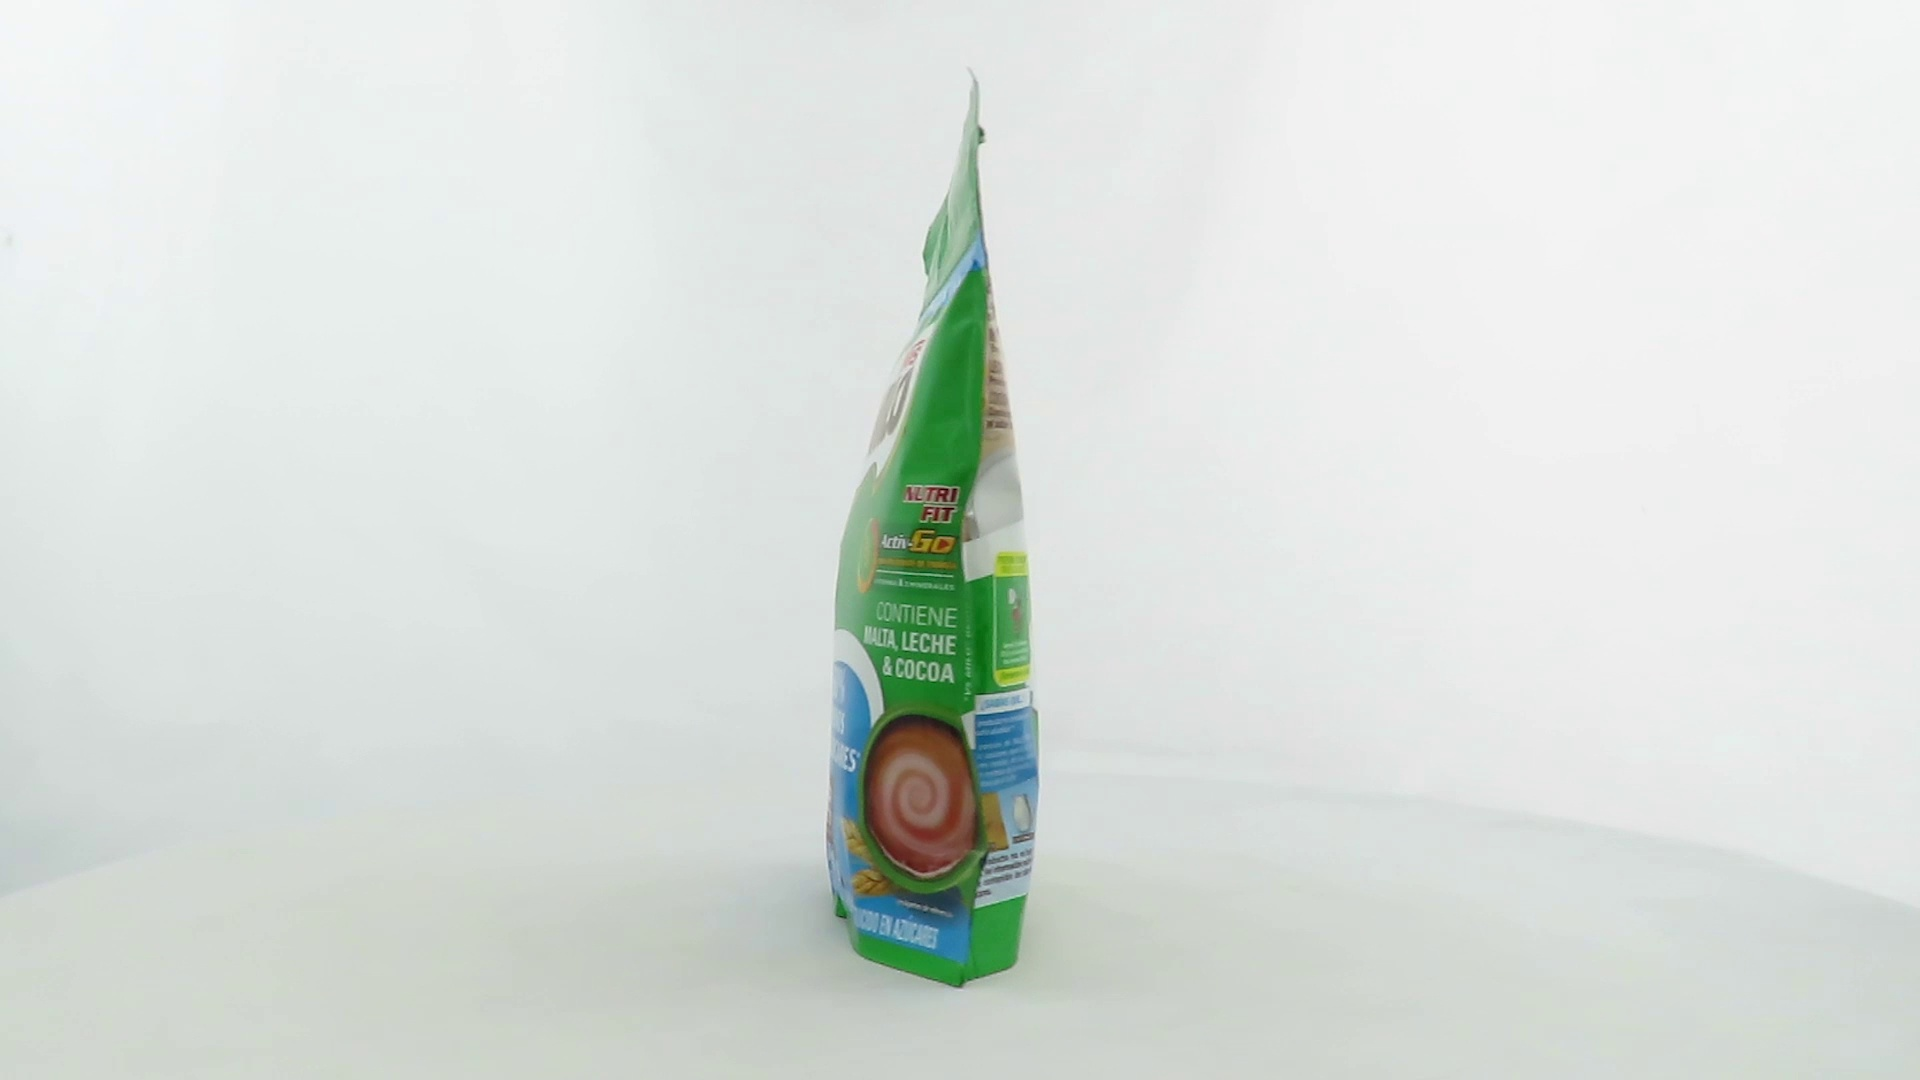COL0170205DYP20000: (822, 61, 1046, 996)
